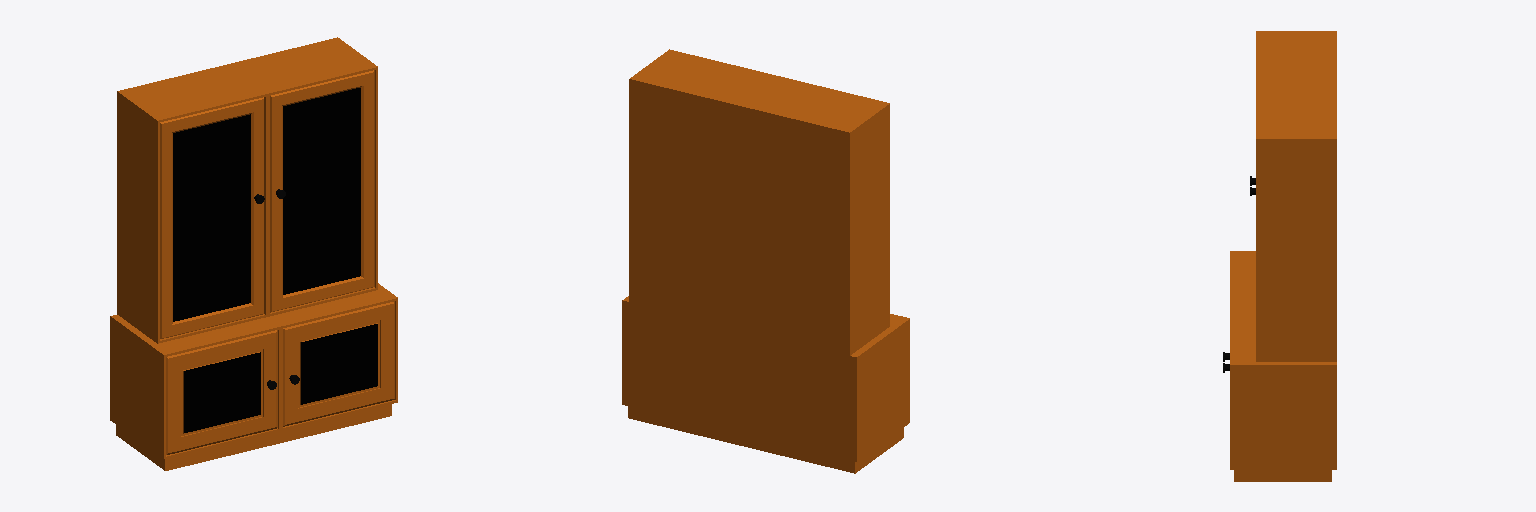
File: cupboard1_orange.obj
3 renders of one model, left to right at view 1: azimuth 30°, elevation 25°; view 2: azimuth 150°, elevation 25°; view 3: azimuth 270°, elevation 25°, orthographic.
Parts seen in each view (by area): view 1: Default; view 2: Default; view 3: Default.
Boxes of the visible parts, x1,y1,x2,y2 form: Default: [110, 37, 397, 470]; Default: [622, 49, 909, 473]; Default: [1223, 31, 1336, 481].
Bounding box in the file's own units: 102 × 142 × 42.64.